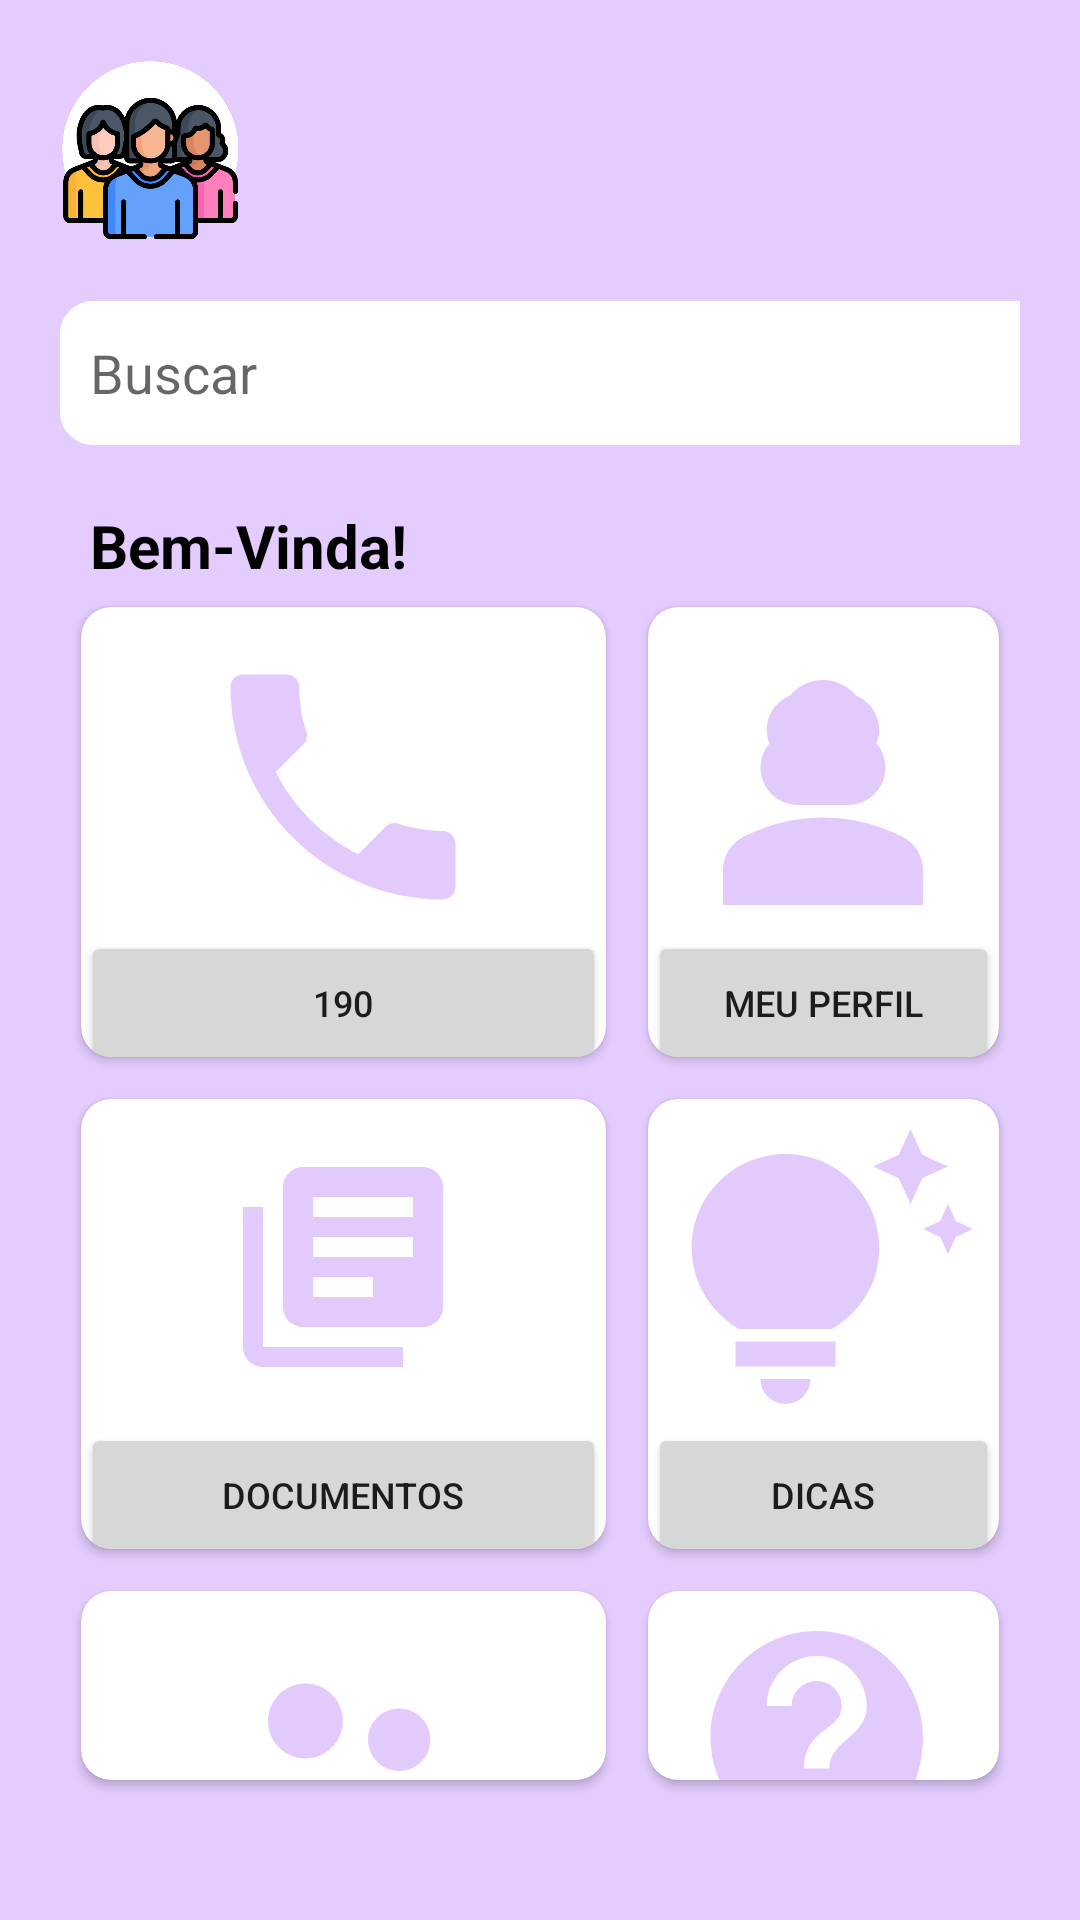

Locate icon controls on the screen. Image size 1080×1920, boxes as bbox=[x1, y1, x2, y2].
books: bbox=[243, 1167, 443, 1367]
person: bbox=[723, 680, 923, 905]
phone: bbox=[230, 674, 456, 900]
